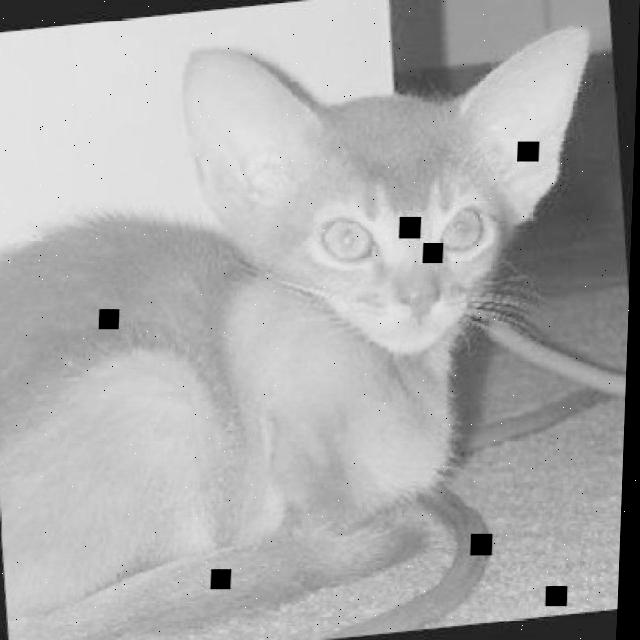Cat: (0, 6, 638, 638)
